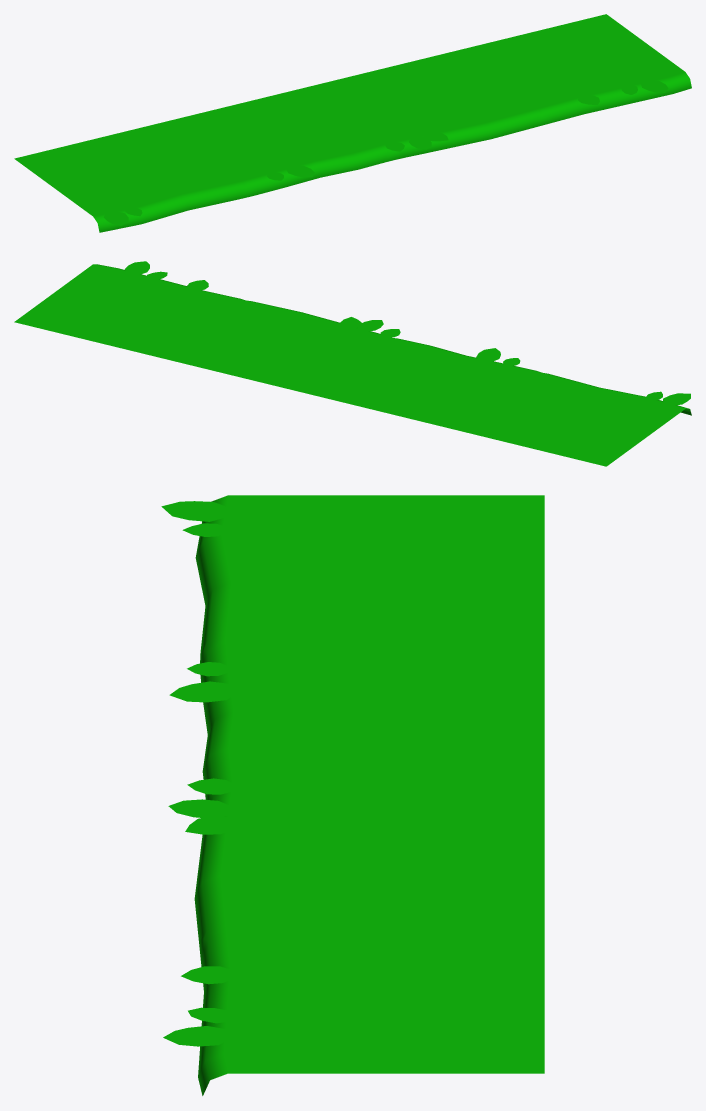
The picture shows the model from 3 angles, top to bottom: view 1: azimuth 30°, elevation 25°; view 2: azimuth 150°, elevation 25°; view 3: azimuth 270°, elevation 25°; orthographic projection. The views are drawn at different scales.
Visible parts, largest first — view 1: Plane.007; view 2: Plane.007; view 3: Plane.007.
Boxes of the visible parts, box(x1,y1,x2,y2) form: Plane.007: box(14, 14, 691, 232); Plane.007: box(14, 261, 691, 466); Plane.007: box(161, 495, 544, 1095).
Size of the model in its own units: 8 by 0.15 by 2.24.
